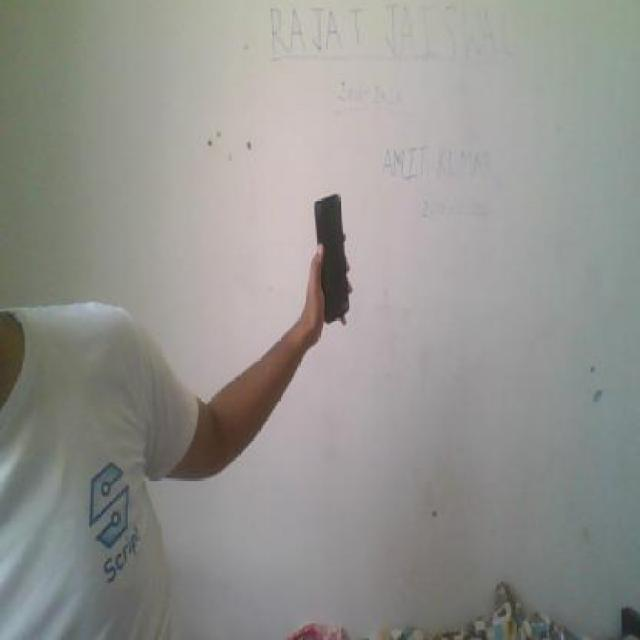Phone: (309, 191, 352, 325)
